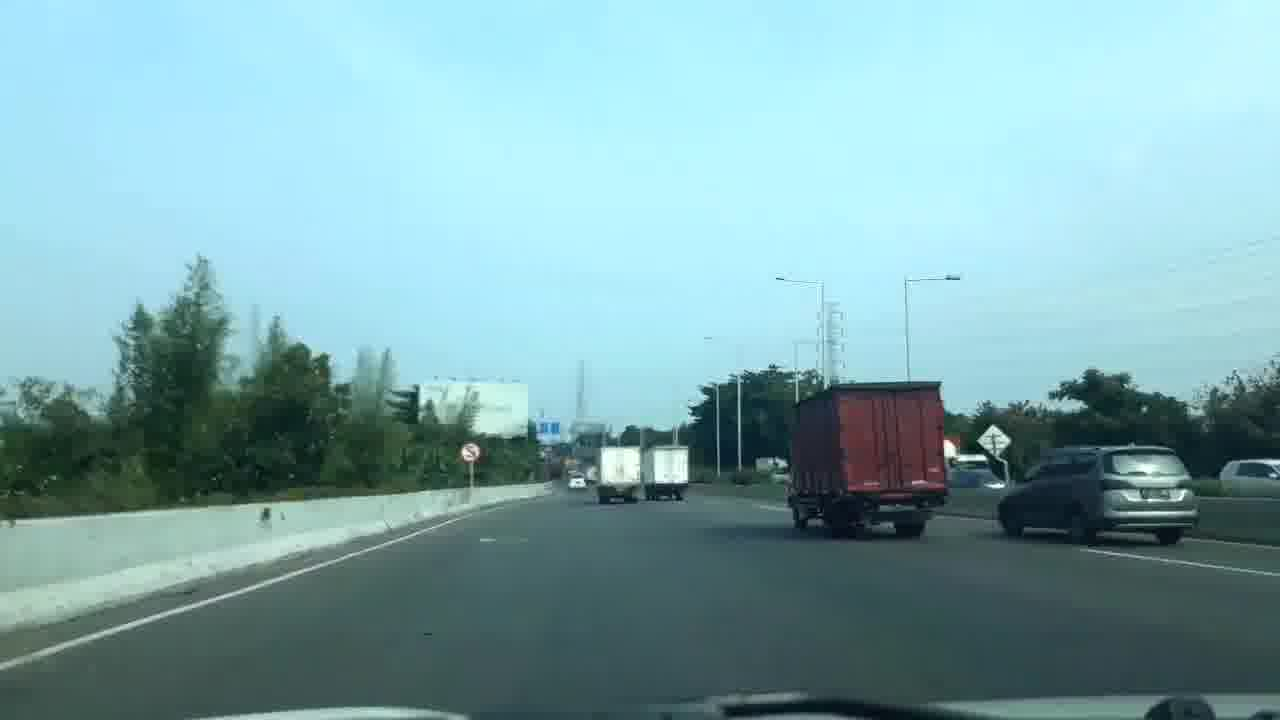plate_positive: (879, 502, 917, 512), (1141, 487, 1170, 499)
